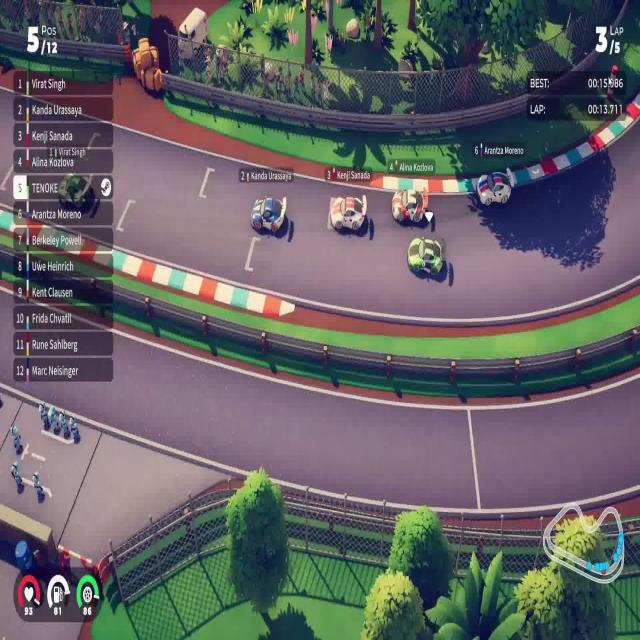car: (406, 235, 444, 278), (391, 187, 432, 226), (330, 192, 367, 234), (250, 193, 287, 234), (476, 169, 512, 207)
